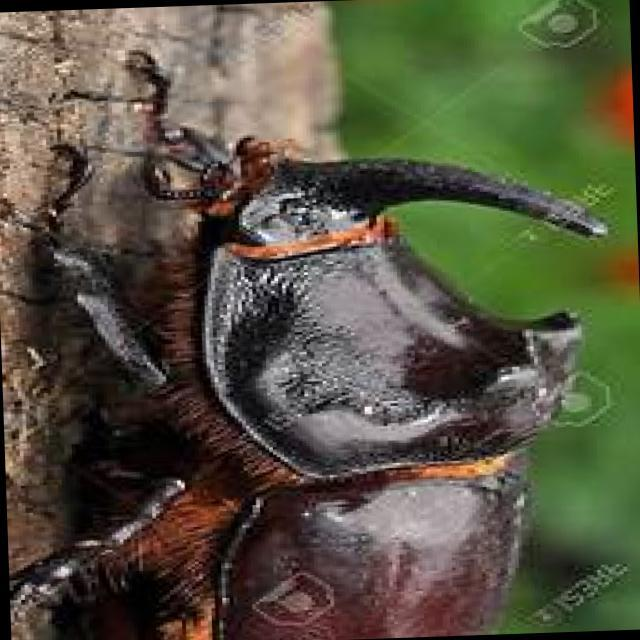Rhino-beetle: (32, 63, 608, 640)
